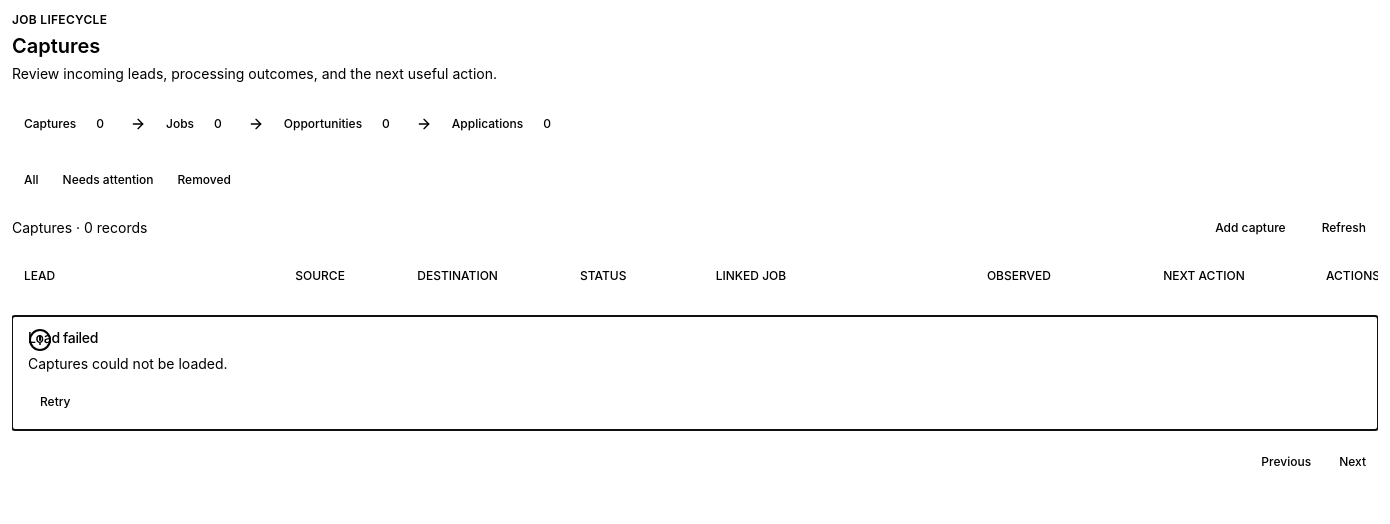
Test case: LifecycleWorkbench › retries a failed aggregate load from the rendered failure action
Check: the message shows "Captures could not be loaded.", box [28,355,228,372]
Check: the message does not show "workspace.sqlite", box [28,328,228,418]
Click the button "Retry": (55, 402) [28,386,82,418]
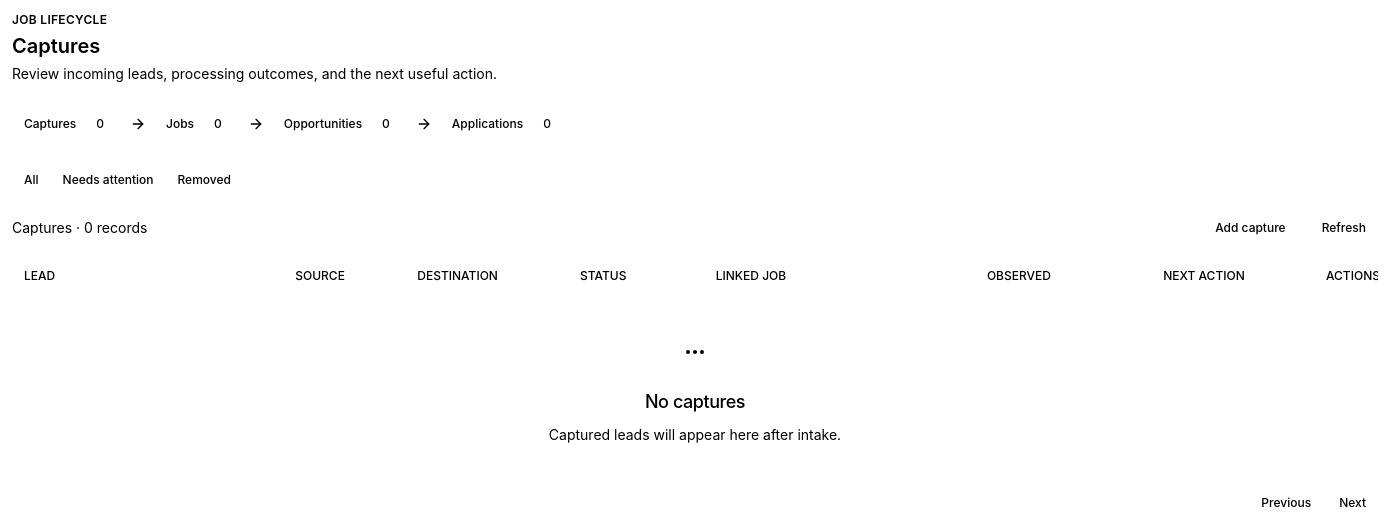
Check: the text "No captures" is shown, box [645,388,745,416]
